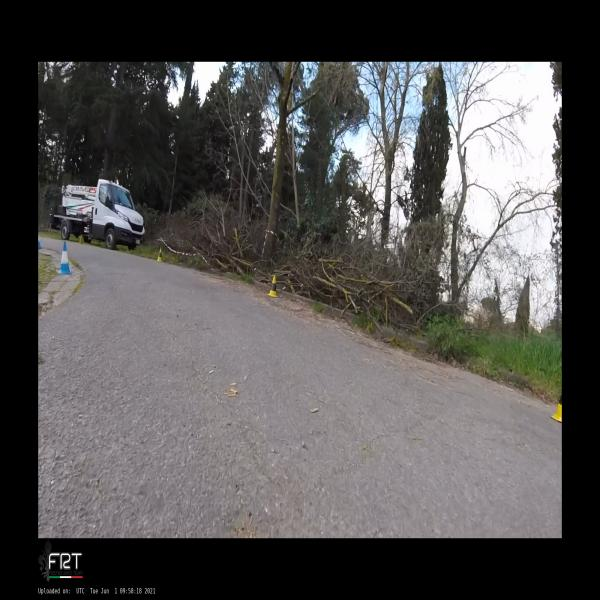blue_cone: (58, 242, 71, 274), (38, 235, 42, 248)
yellow_cone: (550, 393, 562, 424), (268, 276, 278, 298), (157, 248, 162, 262)
